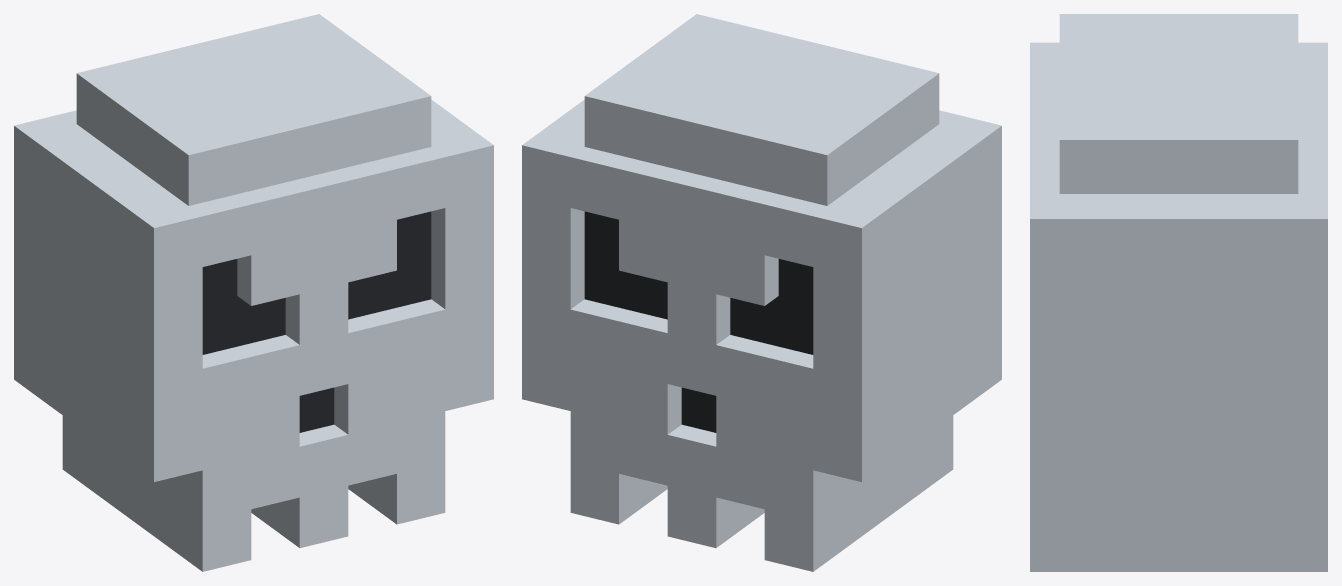
File: skull.glb
The picture shows the model from 3 angles, left to right: view 1: azimuth 30°, elevation 25°; view 2: azimuth 150°, elevation 25°; view 3: azimuth 270°, elevation 25°; orthographic projection. The views are drawn at different scales.
Visible parts, largest first — view 1: generated(Clone); view 2: generated(Clone); view 3: generated(Clone).
Part boxes in pixels (x1,y1,x2,y2): generated(Clone): [14, 14, 493, 571]; generated(Clone): [522, 14, 1001, 571]; generated(Clone): [1030, 14, 1327, 571].
Size of the model in its own units: 7 by 8 by 5.
Materials: 1 (1 with a texture image).
